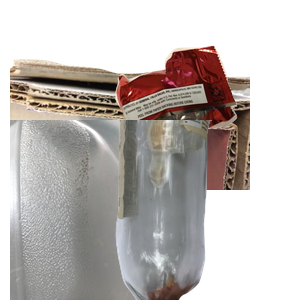cardboard: (10, 57, 250, 237)
glass: (113, 120, 300, 300)
plastic: (10, 120, 190, 300)
trash: (113, 43, 300, 181)
